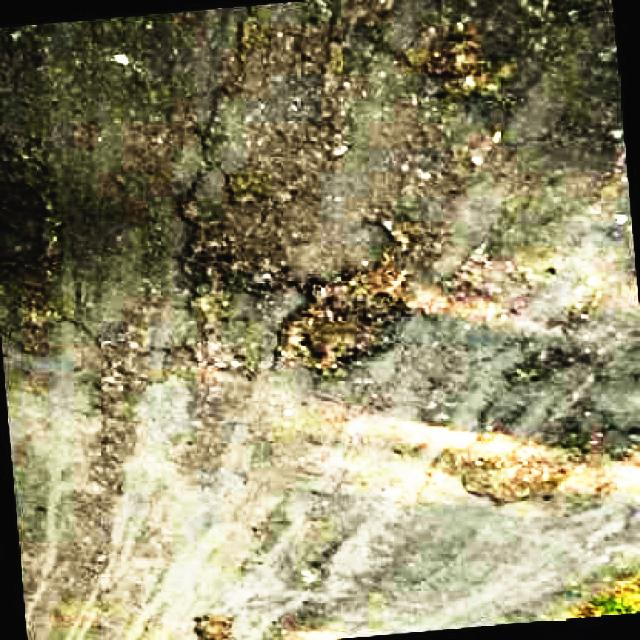pothole: (277, 206, 443, 377), (449, 406, 614, 509), (404, 9, 518, 106), (446, 242, 548, 323), (94, 323, 154, 402)
